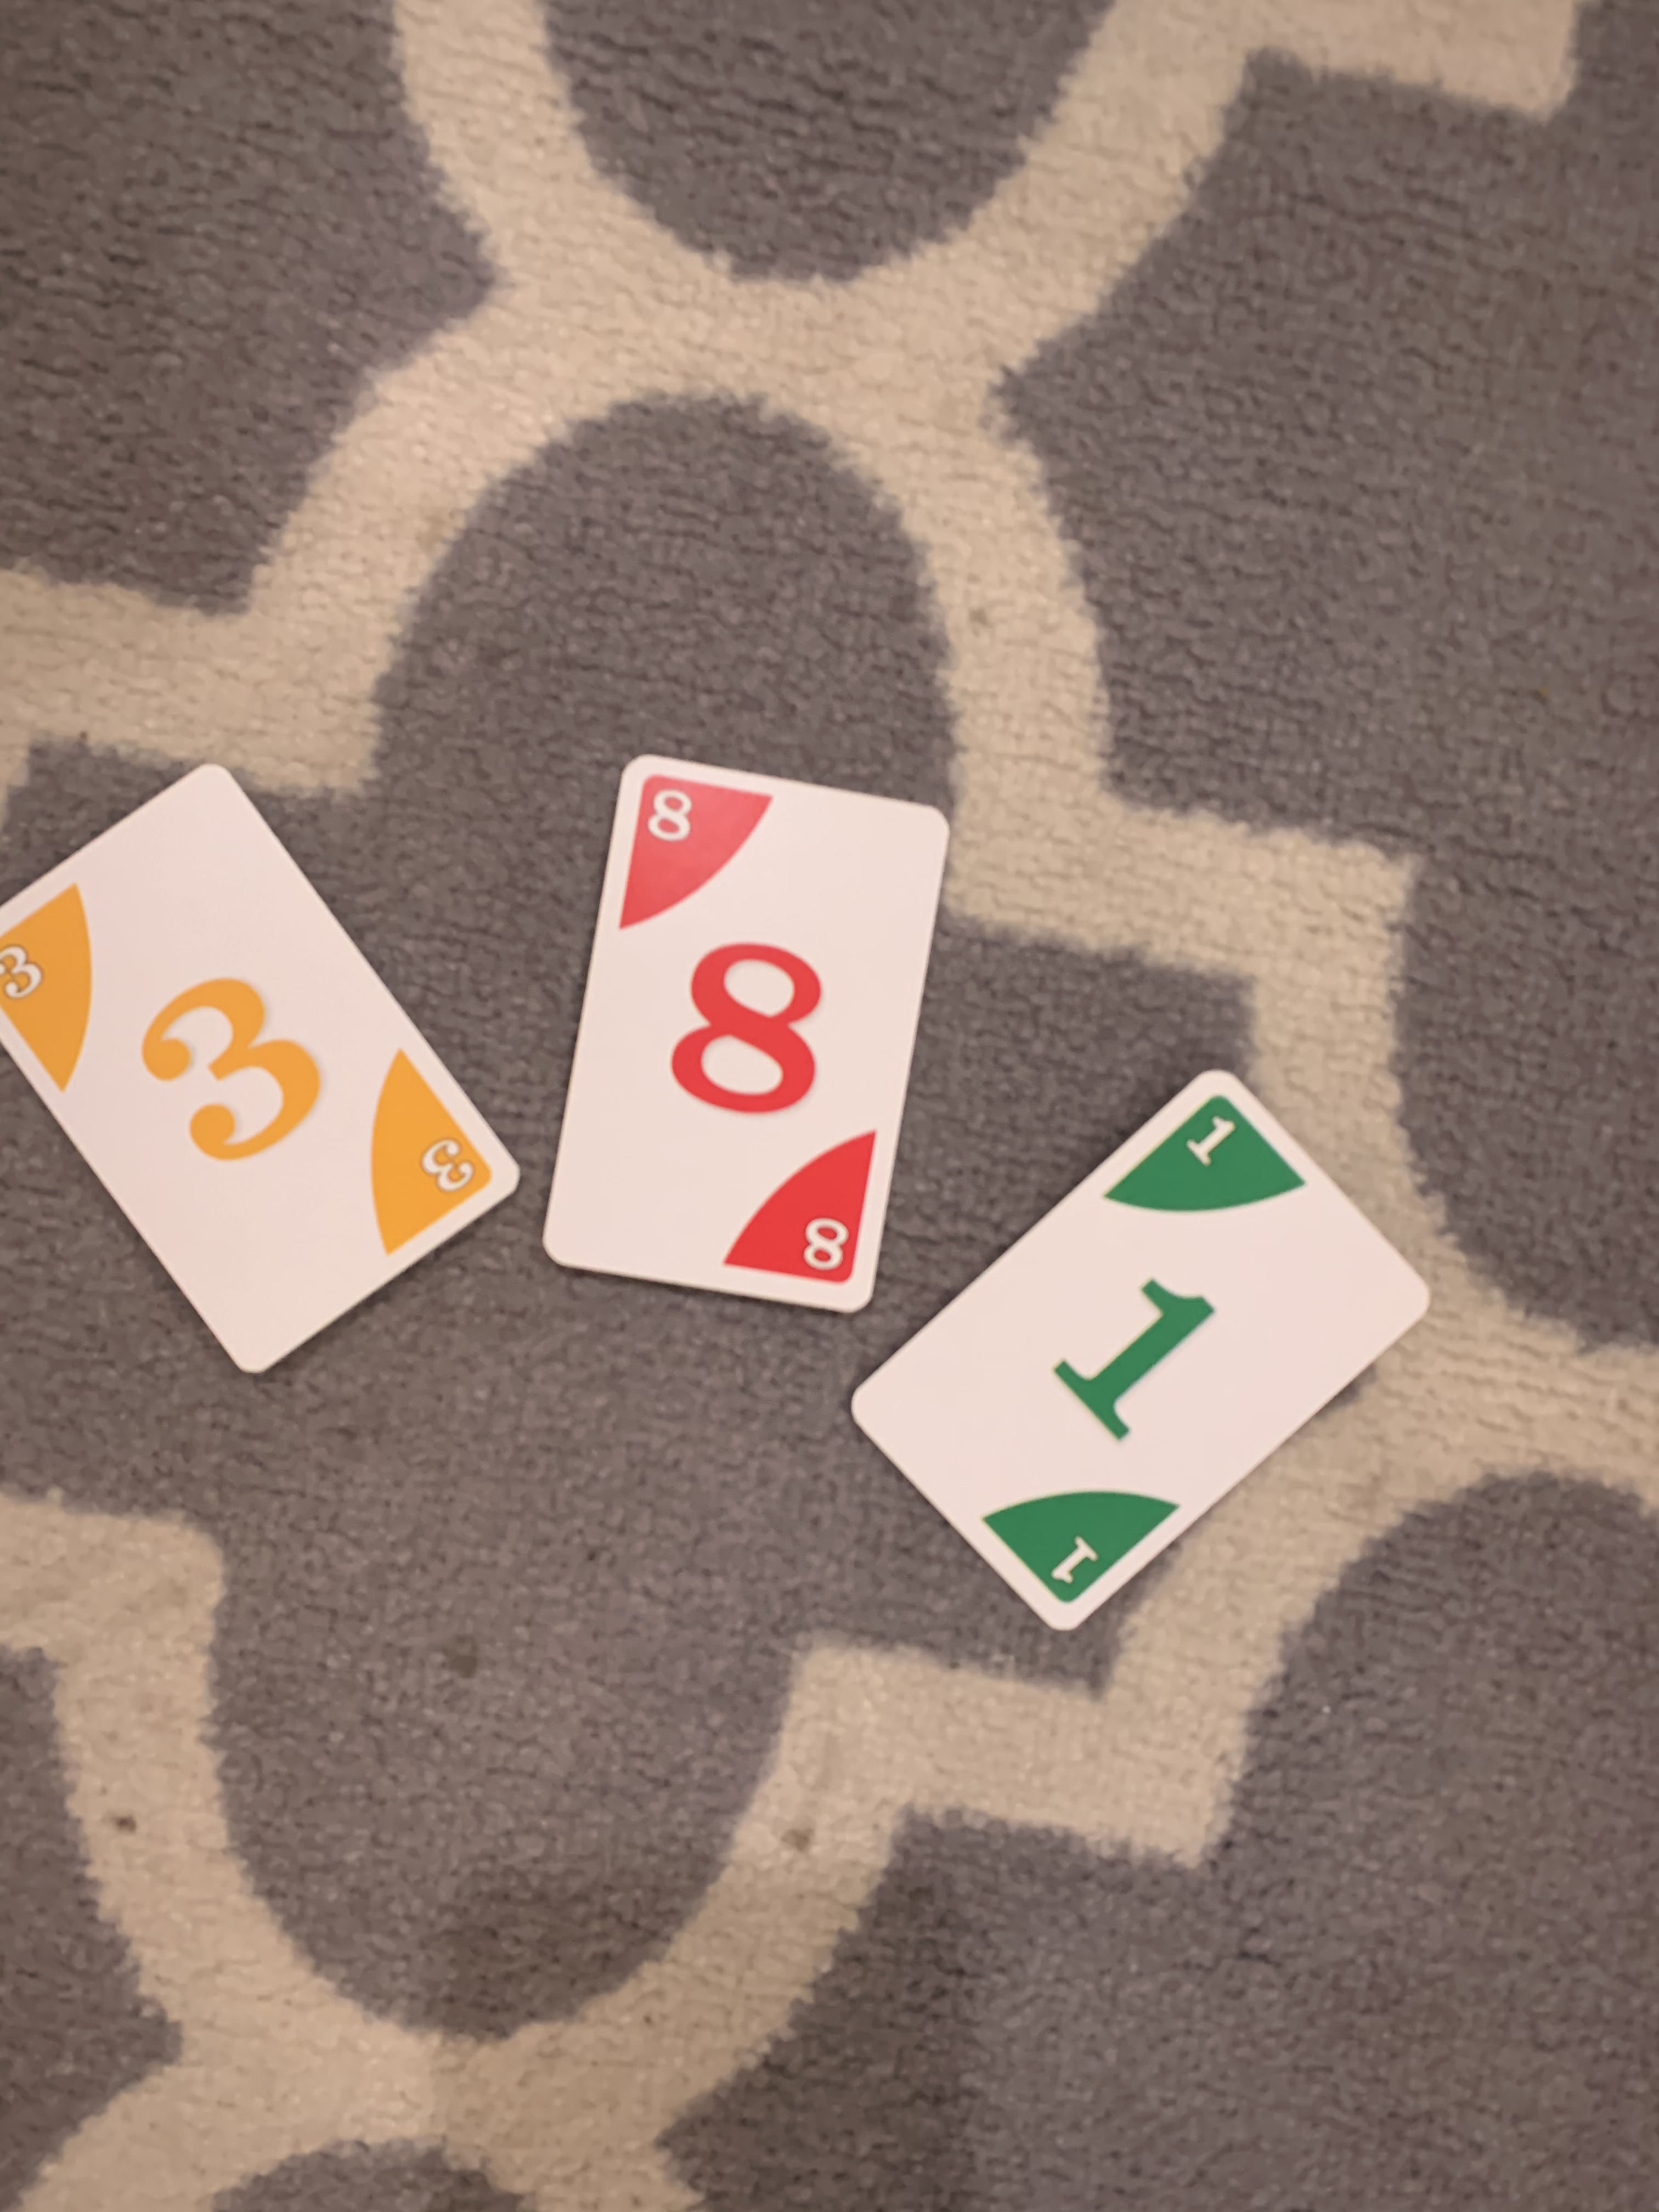eight: (535, 735, 967, 1320)
one: (824, 1047, 1453, 1656)
three: (0, 735, 552, 1413)
